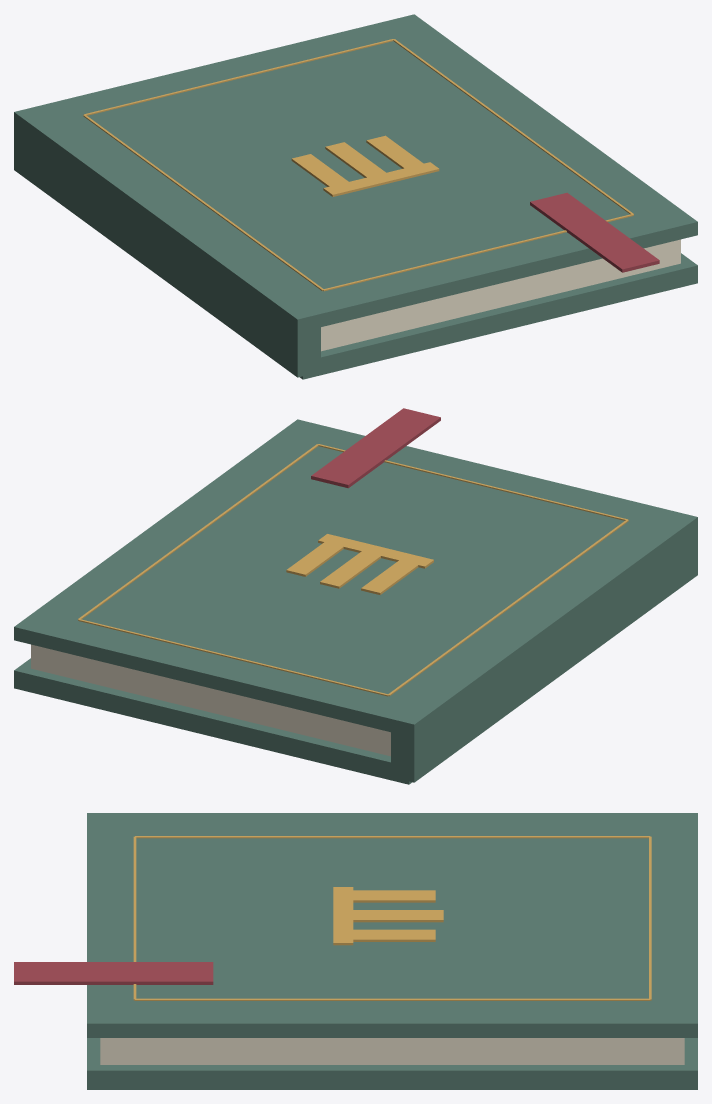
Rendered from letters-book.glb.
The picture shows the model from 3 angles, top to bottom: view 1: azimuth 30°, elevation 25°; view 2: azimuth 150°, elevation 25°; view 3: azimuth 270°, elevation 25°; orthographic projection. The views are drawn at different scales.
Parts seen in each view (by area): view 1: upper linen cover, rounded spine, lower linen cover, paper block, ribbon bookmark, cover crown band, cover crown point.001, gold border, gold border.001, gold border.003, cover crown point.002, cover crown point (+1 smaller); view 2: upper linen cover, rounded spine, lower linen cover, paper block, ribbon bookmark, cover crown band, cover crown point.001, gold border.003, gold border, gold border.001, cover crown point.002, cover crown point (+1 smaller); view 3: upper linen cover, lower linen cover, paper block, rounded spine, ribbon bookmark, gold border.001, gold border, cover crown point.001, cover crown point.002, cover crown point, cover crown band, gold border.002 (+1 smaller).
Part boxes in pixels (x1,y1,x2,y2): upper linen cover: (20, 14, 697, 331); rounded spine: (14, 107, 320, 377); lower linen cover: (300, 253, 697, 379); paper block: (321, 239, 680, 351); ribbon bookmark: (530, 192, 659, 272); cover crown band: (323, 162, 439, 196); cover crown point.001: (325, 142, 391, 181); gold border: (83, 115, 323, 291); gold border.001: (393, 39, 633, 214); gold border.003: (83, 39, 393, 115); cover crown point.002: (366, 135, 424, 169); cover crown point: (291, 154, 348, 186); upper linen cover: (14, 419, 692, 736); rounded spine: (391, 511, 697, 782); lower linen cover: (14, 658, 411, 784); paper block: (31, 644, 390, 756); ribbon bookmark: (311, 408, 440, 488); cover crown band: (318, 534, 433, 568); cover crown point.001: (320, 547, 386, 588); gold border.003: (78, 619, 388, 696); gold border: (388, 520, 628, 696); gold border.001: (78, 444, 318, 619); cover crown point.002: (286, 542, 343, 576); cover crown point: (361, 560, 418, 594); upper linen cover: (87, 816, 697, 1037); lower linen cover: (87, 1038, 697, 1089); paper block: (100, 1038, 684, 1064); rounded spine: (87, 813, 697, 825); ribbon bookmark: (14, 962, 213, 984); gold border.001: (135, 998, 650, 1000); gold border: (135, 836, 650, 838); cover crown point.001: (341, 910, 443, 922); cover crown point.002: (349, 929, 435, 941); cover crown point: (350, 890, 435, 902); cover crown band: (333, 887, 353, 945); gold border.002: (133, 836, 136, 1000).
Bounding box in the file's own units: 0.375 × 0.059 × 0.515.
